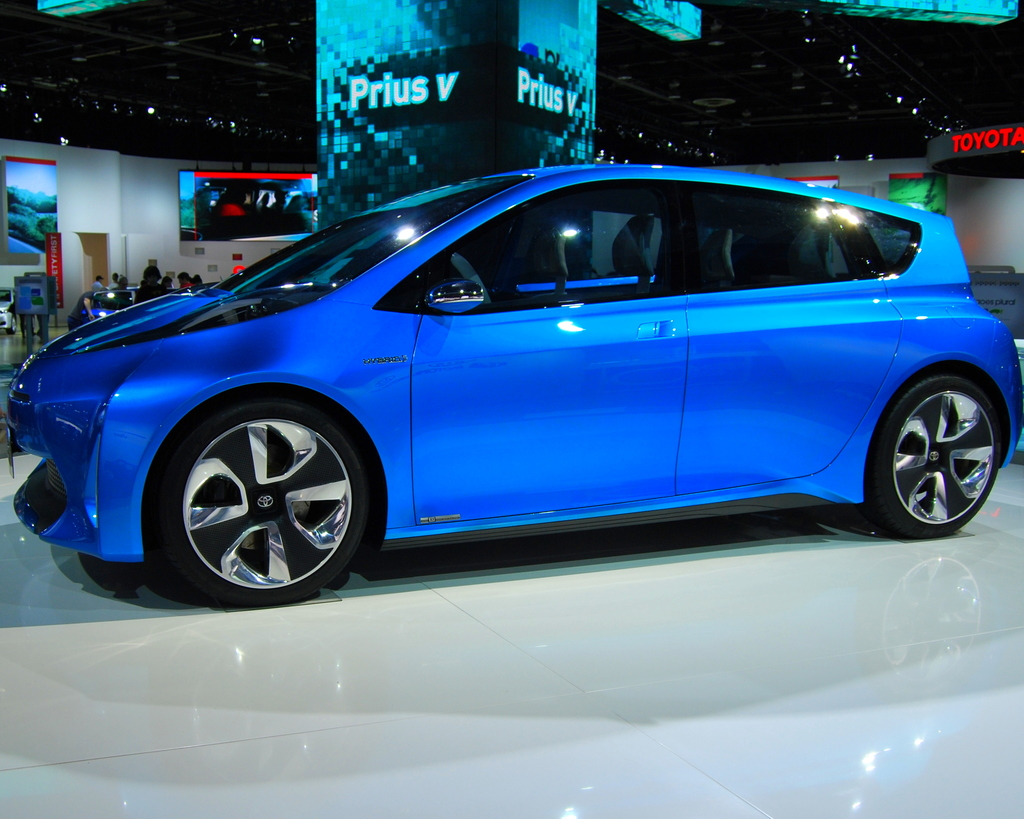Car: (1, 163, 1000, 613), (66, 286, 176, 330), (0, 285, 18, 334)
